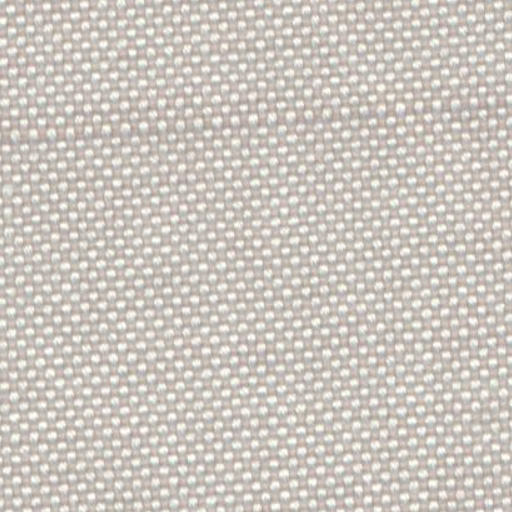TuoSha: (5, 82, 491, 174)
